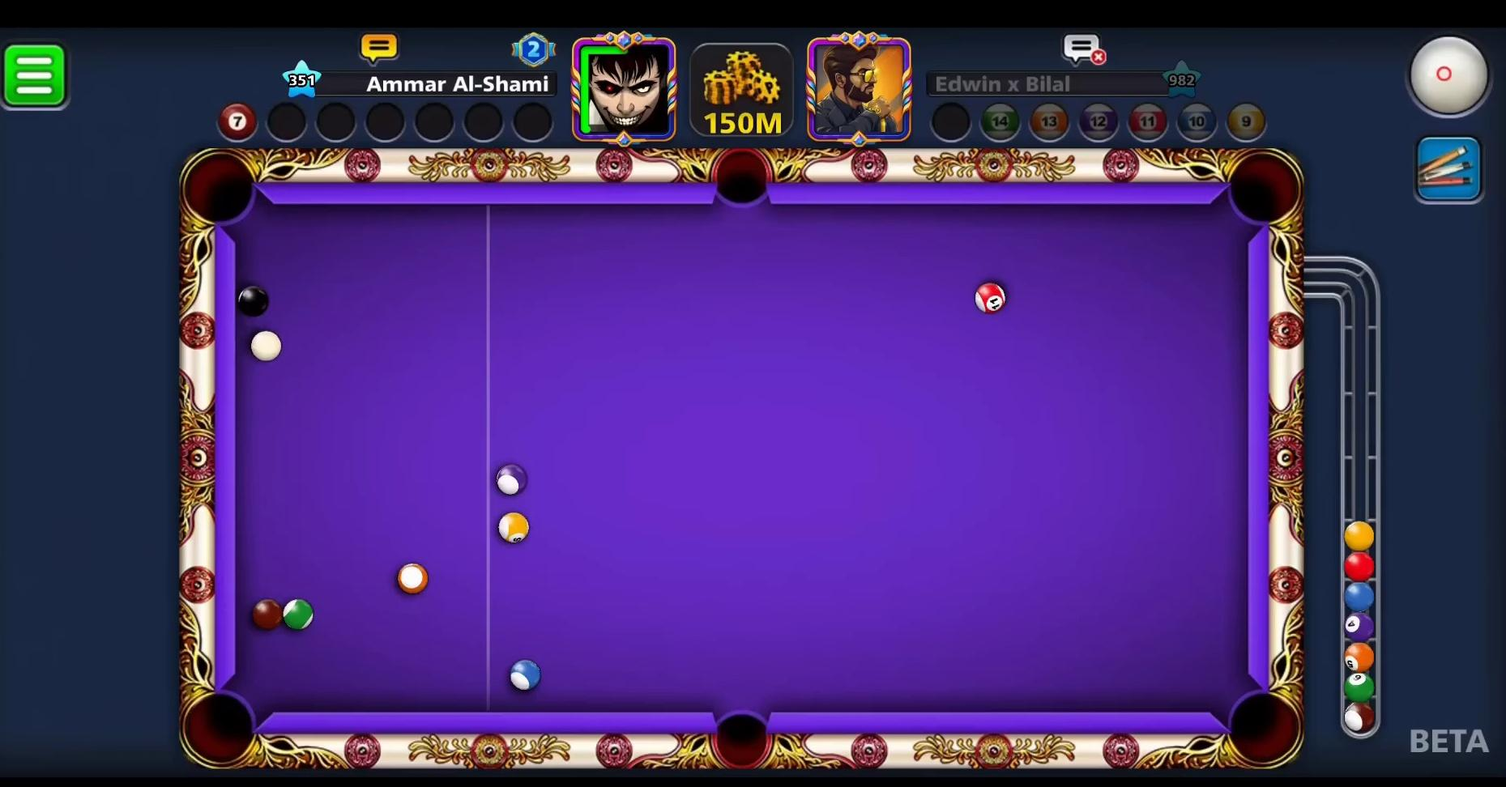Ball: (227, 283, 282, 325), (497, 653, 547, 698), (391, 562, 437, 603), (282, 586, 318, 636), (488, 459, 533, 498), (971, 277, 1009, 320), (245, 596, 288, 633), (494, 509, 535, 547)
Hole: (165, 679, 272, 774), (1210, 675, 1308, 776), (175, 141, 270, 239), (1217, 143, 1306, 234), (696, 689, 790, 774), (699, 143, 783, 221)
Play_Area: (233, 205, 1247, 716)
Spin: (1402, 28, 1503, 128)
White: (244, 327, 291, 365)
